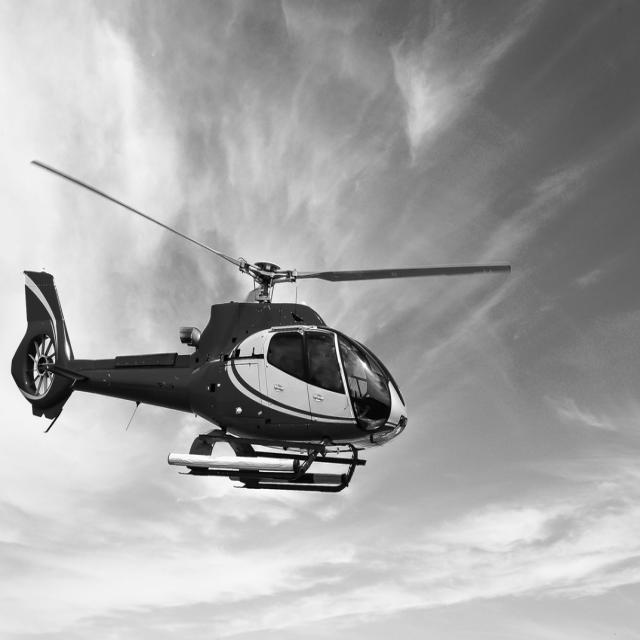helicopter: (7, 149, 527, 516)
